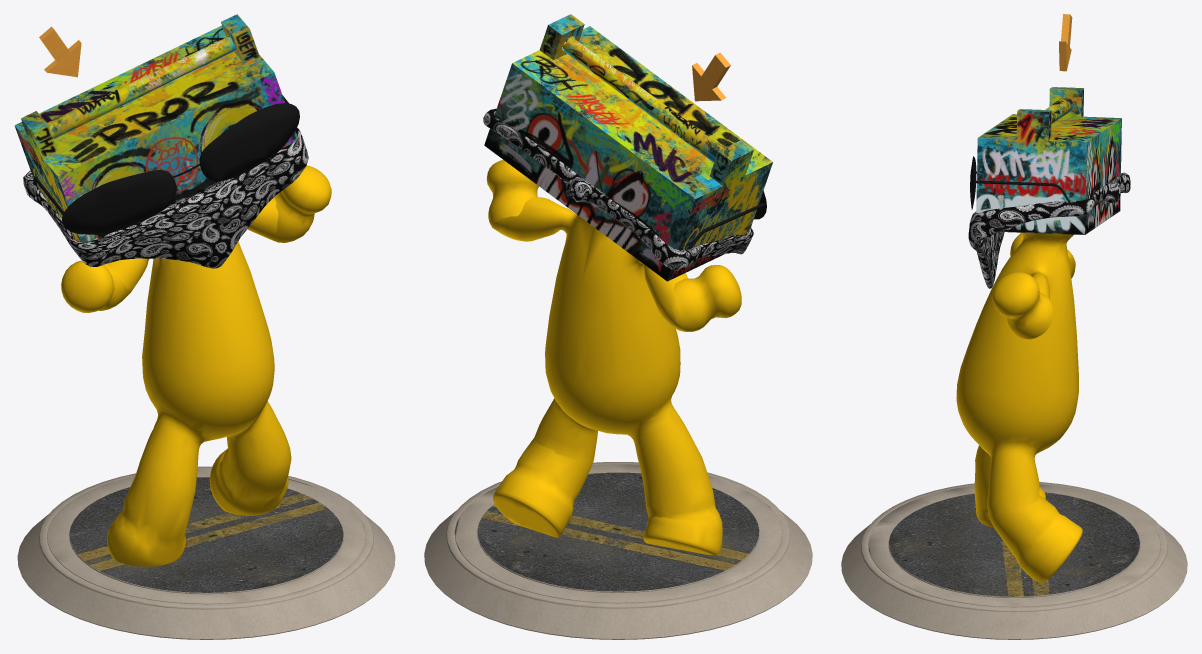
The picture shows the model from 3 angles, left to right: view 1: azimuth 30°, elevation 25°; view 2: azimuth 150°, elevation 25°; view 3: azimuth 270°, elevation 25°; orthographic projection. The views are drawn at different scales.
Size of the model in its own units: 1.45 by 2.29 by 1.45.
7 materials, 5 textured.
